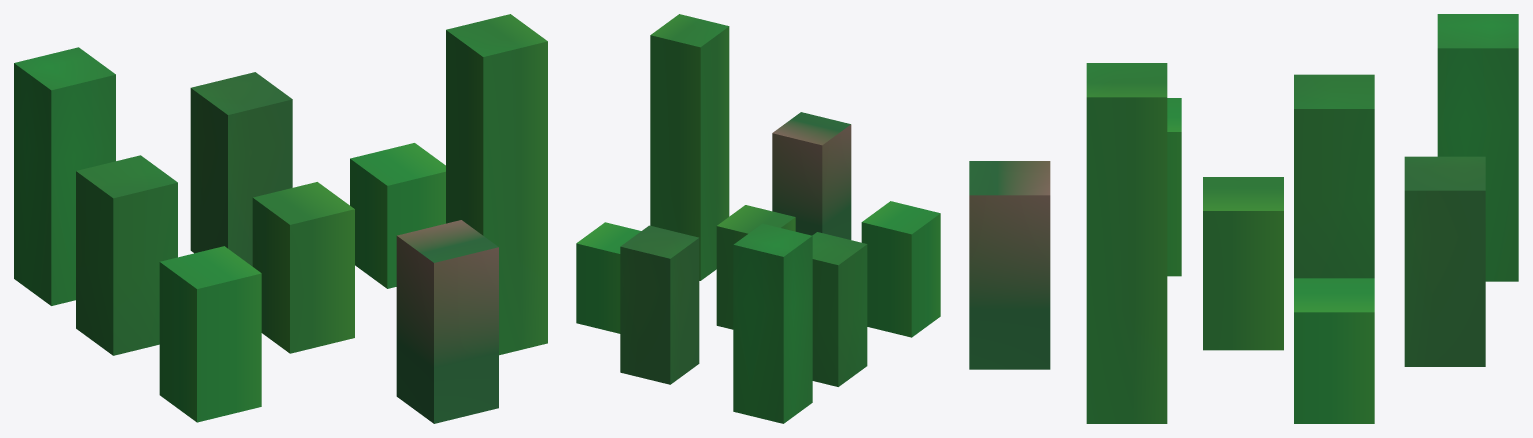
The model's file is Plants_2.fbx.
The picture shows the model from 3 angles, left to right: view 1: azimuth 30°, elevation 25°; view 2: azimuth 150°, elevation 25°; view 3: azimuth 270°, elevation 25°; orthographic projection. The views are drawn at different scales.
Parts seen in each view (by area): view 1: Plants_2; view 2: Plants_2; view 3: Plants_2.
Boxes of the visible parts, box(x1,y1,x2,y2) form: Plants_2: box(14, 14, 547, 423); Plants_2: box(576, 14, 940, 423); Plants_2: box(969, 14, 1518, 423).
Size of the model in its own units: 18.61 by 15.6 by 23.76.
Materials: 1 (1 with a texture image).
